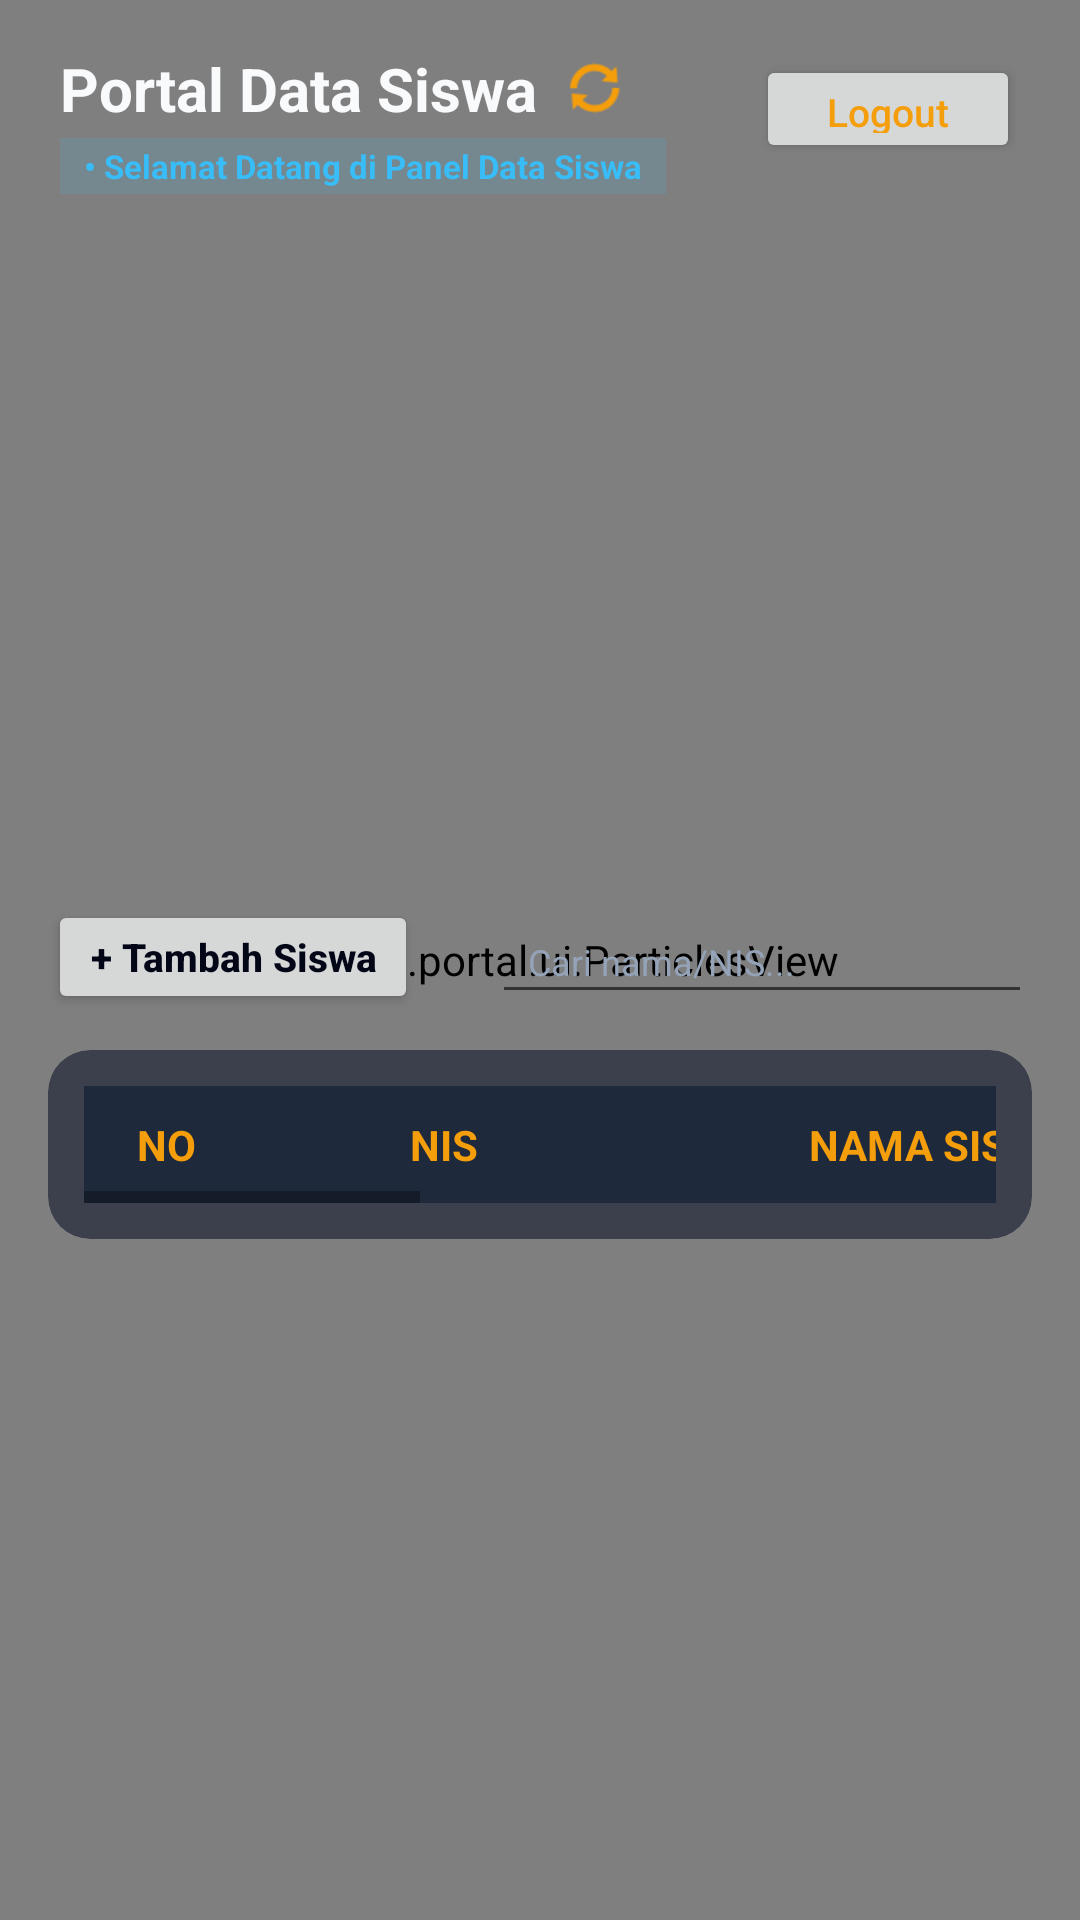

Icon click points for this 1080px x 1920px phone screenshot, format (x=x, y=y):
popup sync: (x=595, y=88)
